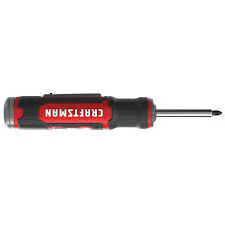Screwdriver: (4, 85, 225, 137)
